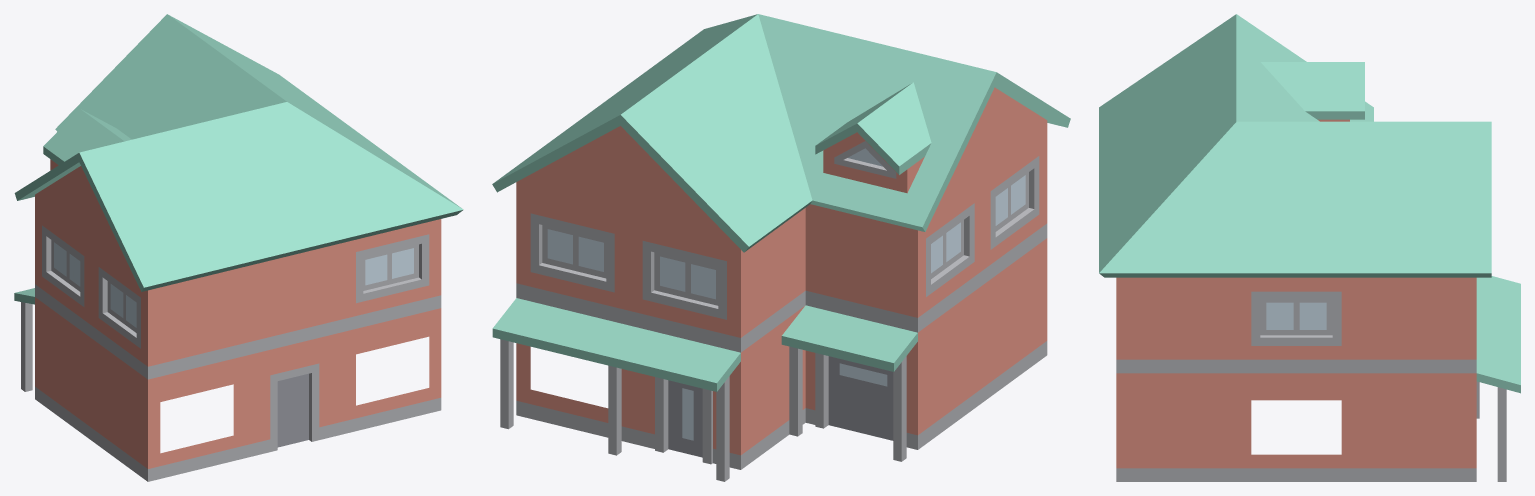
Rendered from House.gltf.
3 renders of one model, left to right at view 1: azimuth 30°, elevation 25°; view 2: azimuth 150°, elevation 25°; view 3: azimuth 270°, elevation 25°, orthographic. The views are drawn at different scales.
Visible parts, largest first — view 1: house_type02; view 2: house_type02; view 3: house_type02.
Boxes of the visible parts, box(x1,y1,x2,y2) form: house_type02: box(14, 14, 463, 481); house_type02: box(492, 14, 1070, 481); house_type02: box(1099, 14, 1520, 481).
Bounding box in the file's own units: 1.31 × 1.14 × 1.41.
